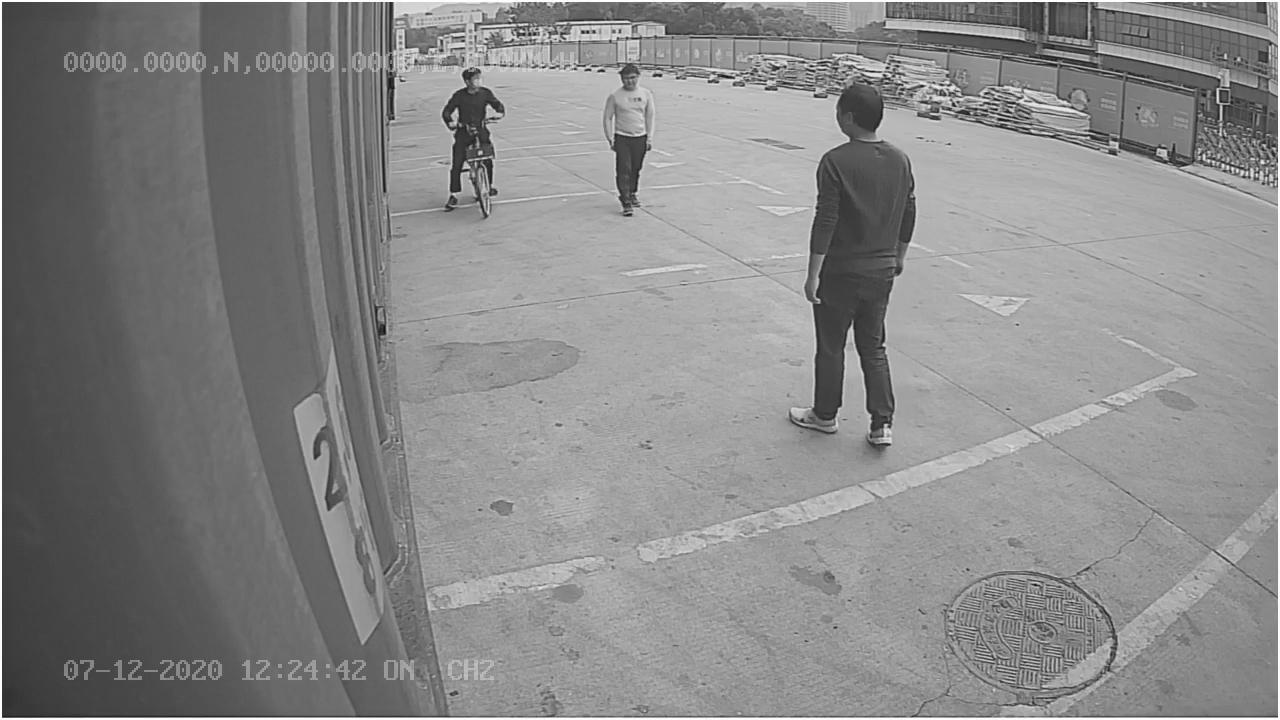person: (785, 75, 923, 454), (599, 60, 659, 221)
